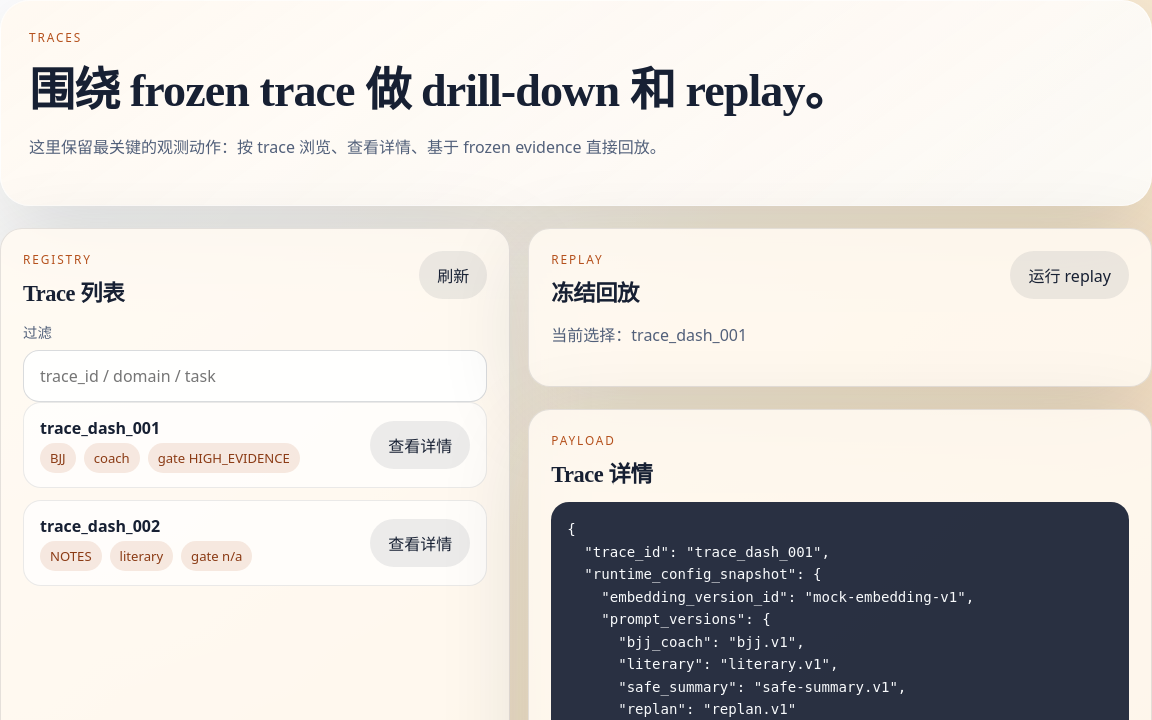
it: TracesClient › loads trace details and runs replay against frozen evidence
The width and height of the screenshot is (1152, 720).
Expected: the text "trace_dash_001" is shown, left=40, top=417, right=160, bottom=439
Click the button "运行 replay" at (1070, 275), box left=1010, top=251, right=1129, bottom=299
(page scrolled)
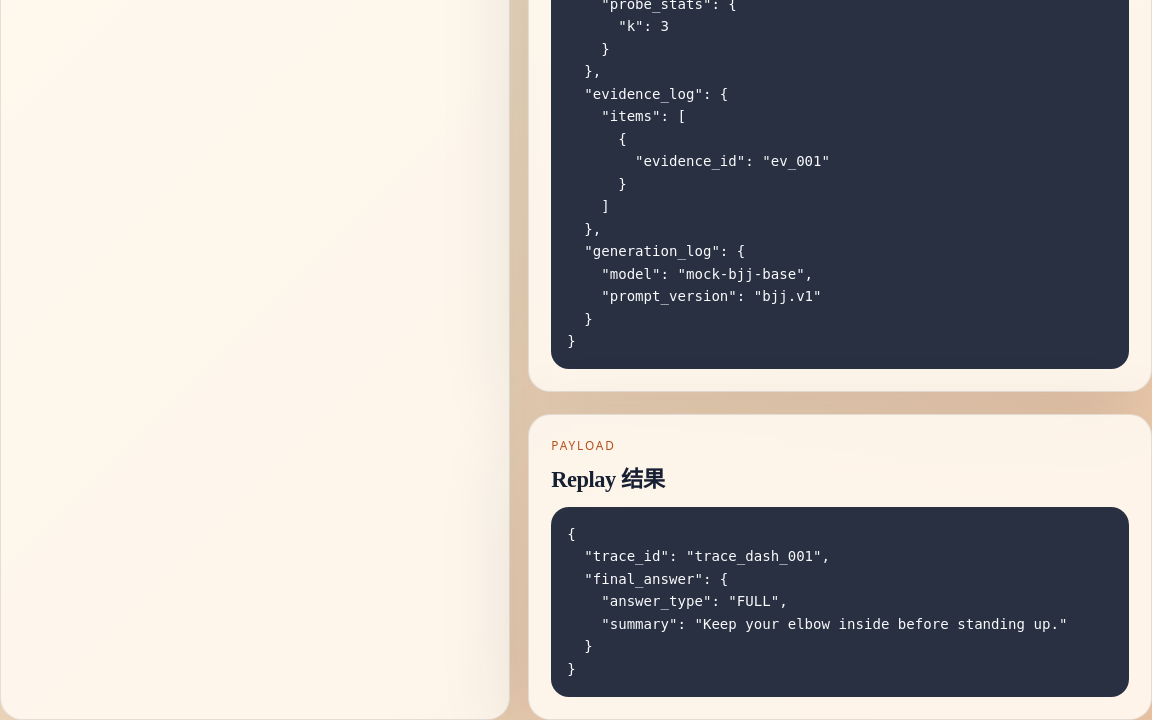
Now the text "Keep your elbow inside" is shown, box left=567, top=526, right=1067, bottom=677
